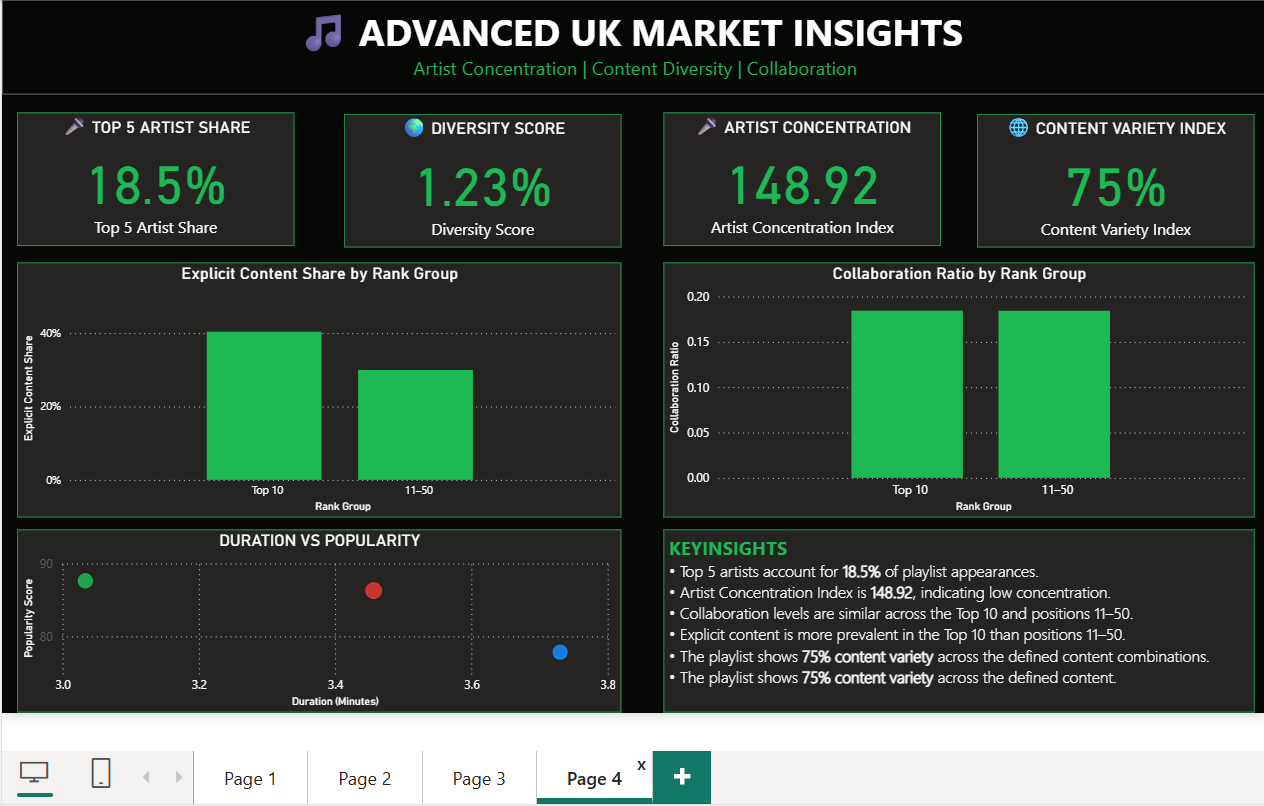

What the dashboard file says about the page in this screenshot:
{"tool":"powerbi","page":{"name":"Page 4","canvas":[1280,720],"ordinal":3},"visuals":[{"type":"card","title":"🎤 TOP 5 ARTIST SHARE","fields":{"Values":["Atlantic_United_Kingdom.Top 5 Artist Share"]},"box":[15.1,113.6,280.1,134.8],"z":0},{"type":"card","title":"🌍 DIVERSITY SCORE","fields":{"Values":["Atlantic_United_Kingdom.Diversity Score"]},"box":[345.2,115.1,280.1,134.8],"z":1000},{"type":"clusteredColumnChart","fields":{"Category":["Atlantic_United_Kingdom.Rank Group"],"Y":["Atlantic_United_Kingdom.Collaboration Ratio"]},"box":[667.8,265,596.6,257.4],"z":2000},{"type":"clusteredColumnChart","fields":{"Category":["Atlantic_United_Kingdom.Rank Group"],"Y":["Atlantic_United_Kingdom.Explicit Content Share"]},"box":[15.1,265,610.2,257.4],"z":3000},{"type":"scatterChart","title":"DURATION VS POPULARITY","fields":{"X":["Avg(Atlantic_United_Kingdom.Duration Minutes)"],"Y":["Avg(Atlantic_United_Kingdom.popularity)"],"Series":["Atlantic_United_Kingdom.album_type"],"Size":["Avg(Atlantic_United_Kingdom.position)"]},"box":[15.1,534.5,610.2,184.7],"z":4000},{"type":"card","title":"🎤 ARTIST CONCENTRATION","fields":{"Values":["Atlantic_United_Kingdom.Artist Concentration Index"]},"box":[667.8,113.6,280.1,134.8],"z":5000},{"type":"actionButton","box":[0,0,100,40],"z":6000},{"type":"card","title":"🌐 CONTENT VARIETY INDEX","fields":{"Values":["Atlantic_United_Kingdom.Content Variety Index"]},"box":[984.2,115.1,280.1,134.8],"z":7000},{"type":"textbox","box":[0,0,1279.5,95.4],"z":8000},{"type":"textbox","box":[667.8,534.5,596.6,184.7],"z":9000}]}

Visuals, with their boxes on the page's 1280x720 design canvas (x1, y1, x2, y2). These are canvas units, not pixel positions in the 1264x806 screenshot, which may show the page scaled, cropped or inside an application window:
"🎤 TOP 5 ARTIST SHARE" card: (15,114,295,248)
"🌍 DIVERSITY SCORE" card: (345,115,625,250)
clusteredColumnChart - Atlantic_United_Kingdom.Rank Group x Atlantic_United_Kingdom.Collaboration Ratio: (668,265,1264,522)
clusteredColumnChart - Atlantic_United_Kingdom.Rank Group x Atlantic_United_Kingdom.Explicit Content Share: (15,265,625,522)
"DURATION VS POPULARITY" scatterChart: (15,534,625,719)
"🎤 ARTIST CONCENTRATION" card: (668,114,948,248)
actionButton: (0,0,100,40)
"🌐 CONTENT VARIETY INDEX" card: (984,115,1264,250)
textbox: (0,0,1280,95)
textbox: (668,534,1264,719)
